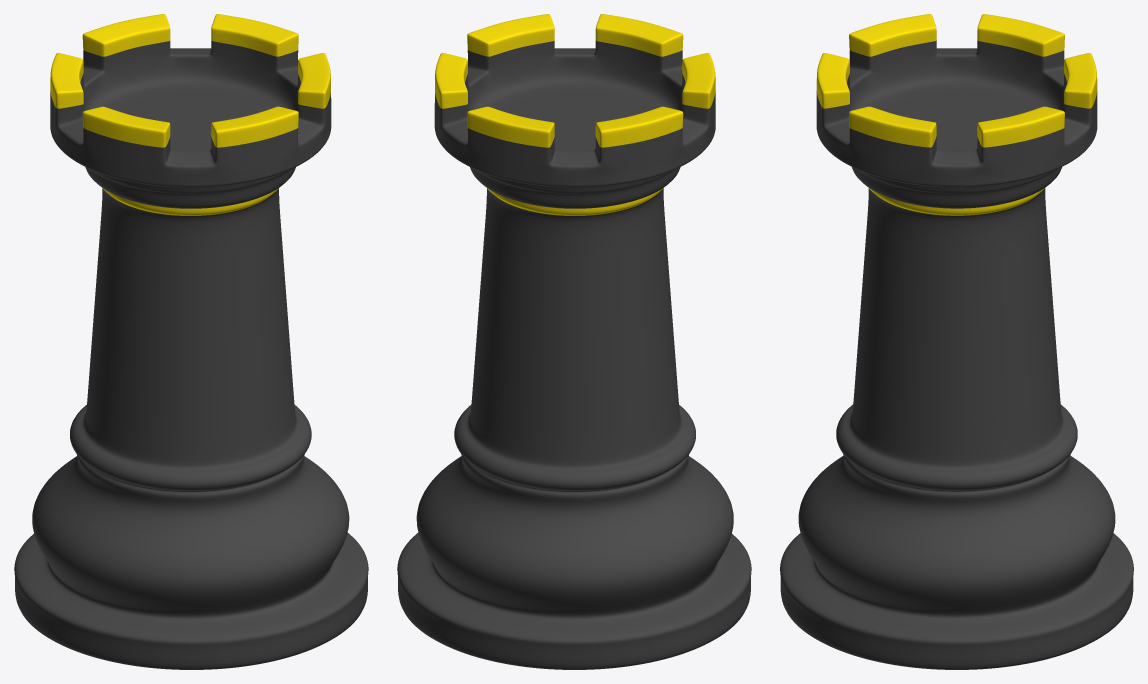
Rendered from black rook.fbx.
3 renders of one model, left to right at view 1: azimuth 30°, elevation 25°; view 2: azimuth 150°, elevation 25°; view 3: azimuth 270°, elevation 25°, orthographic.
Parts seen in each view (by area): view 1: black rook; view 2: black rook; view 3: black rook.
Part boxes in pixels (box(x1,y1,x2,y2)): black rook: box(14, 14, 368, 669); black rook: box(397, 14, 751, 669); black rook: box(780, 14, 1133, 669).
Bounding box in the file's own units: 97.71 × 160 × 97.71.
